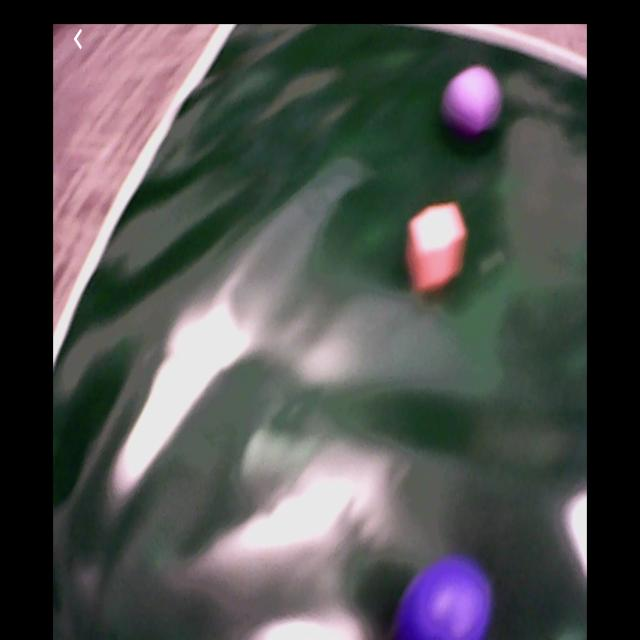ball: (406, 558, 494, 640), (449, 61, 497, 138)
